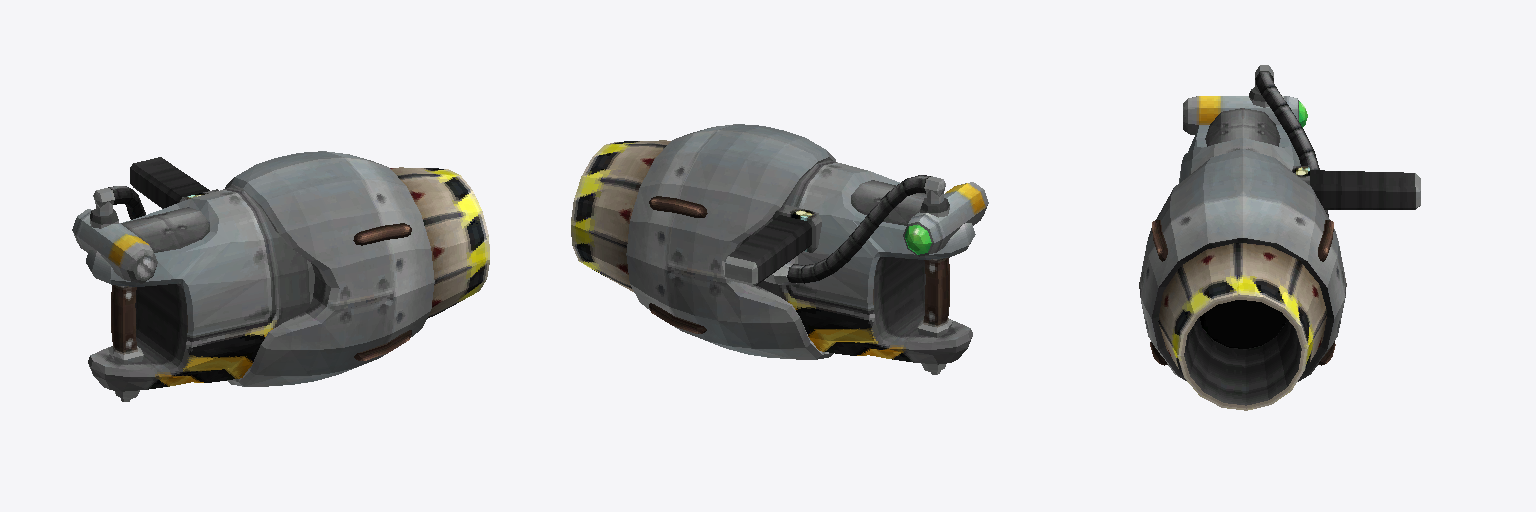
The picture shows the model from 3 angles: view 1: azimuth 30°, elevation 25°; view 2: azimuth 150°, elevation 25°; view 3: azimuth 270°, elevation 25°; orthographic projection.
Visible parts, largest first — view 1: Mesh0, Mesh0.001; view 2: Mesh0, Mesh0.001; view 3: Mesh0, Mesh0.001.
Boxes of the visible parts, <box> form: Mesh0: <box>72,151,434,401</box>; Mesh0.001: <box>390,167,489,318</box>; Mesh0: <box>626,124,988,374</box>; Mesh0.001: <box>571,140,670,291</box>; Mesh0: <box>1139,65,1420,381</box>; Mesh0.001: <box>1158,243,1326,410</box>.
Bounding box in the file's own units: 36.6 × 20.93 × 24.31.
1 materials, 1 textured.